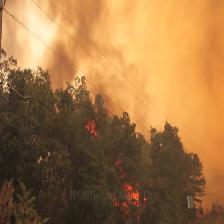fire: (71, 103, 152, 224)
smoke: (0, 0, 224, 106)
